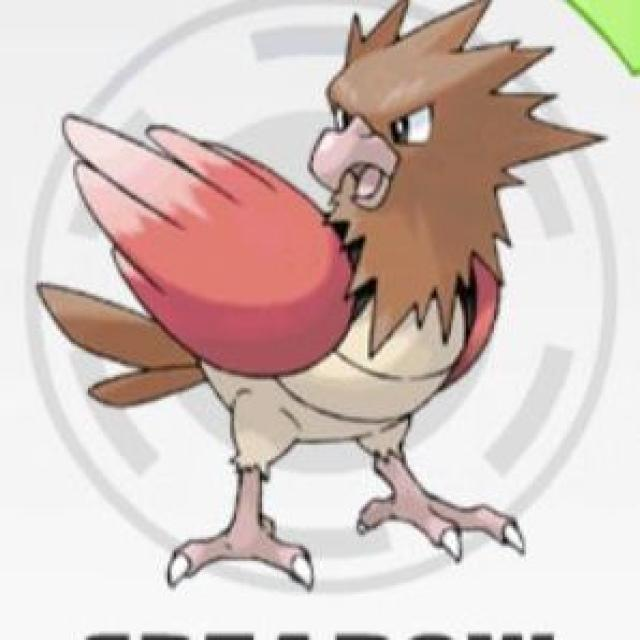Spearow: (109, 4, 526, 484)
